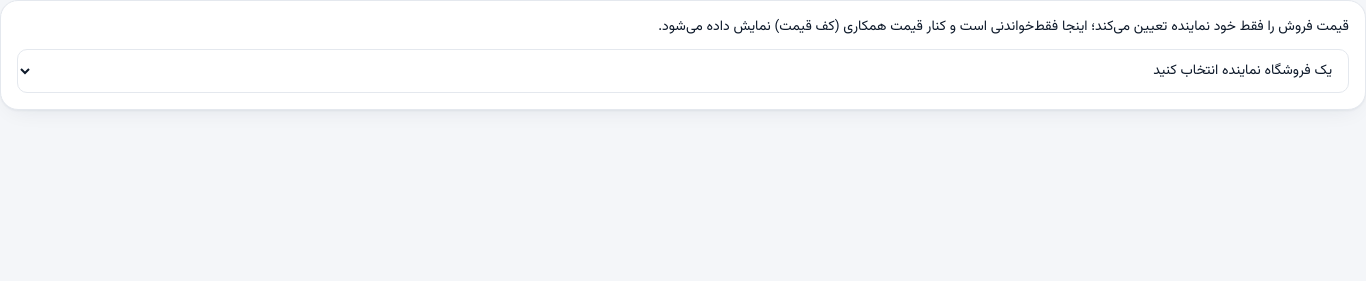
Test: store hub: prices and API tabs › prices tab shows the reseller price table read-only, with the cost floor and state
Select "Acme" in the dropdown named "فروشگاه نماینده" at [683, 71], box [17,49,1349,93]
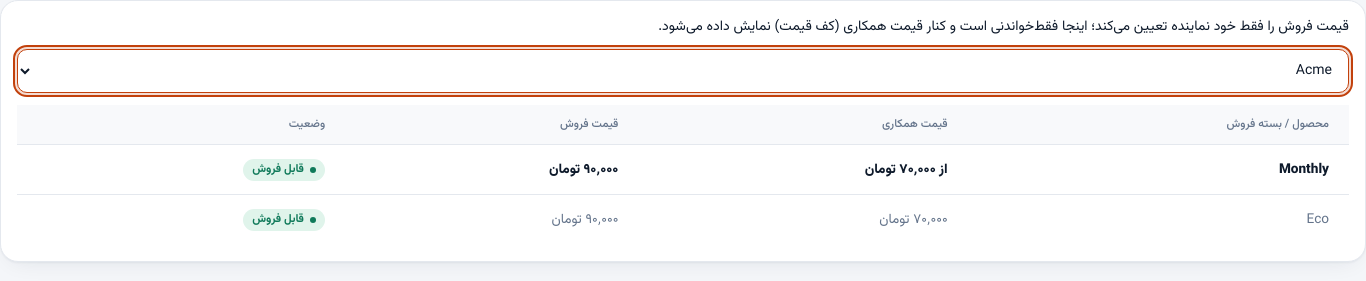
Check: the text "Monthly" is shown, box [968,145,1349,195]
Check: the text "Eco" is shown, box [968,195,1349,245]
